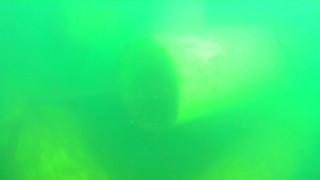pipe: (116, 22, 297, 128), (1, 97, 112, 179), (196, 128, 320, 179)
